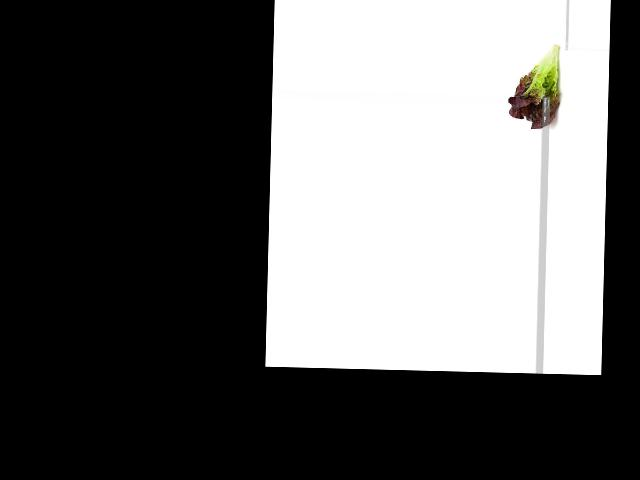lettuce: (506, 40, 565, 131)
